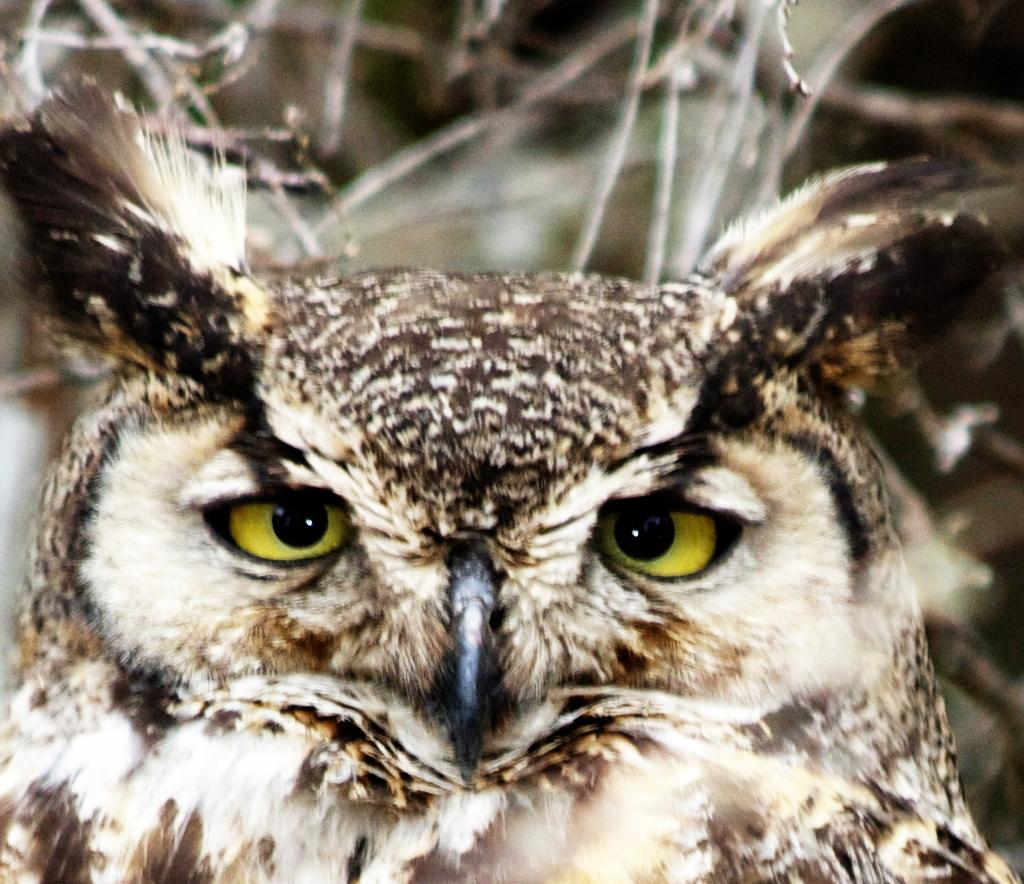Owl: (0, 65, 1024, 884)
